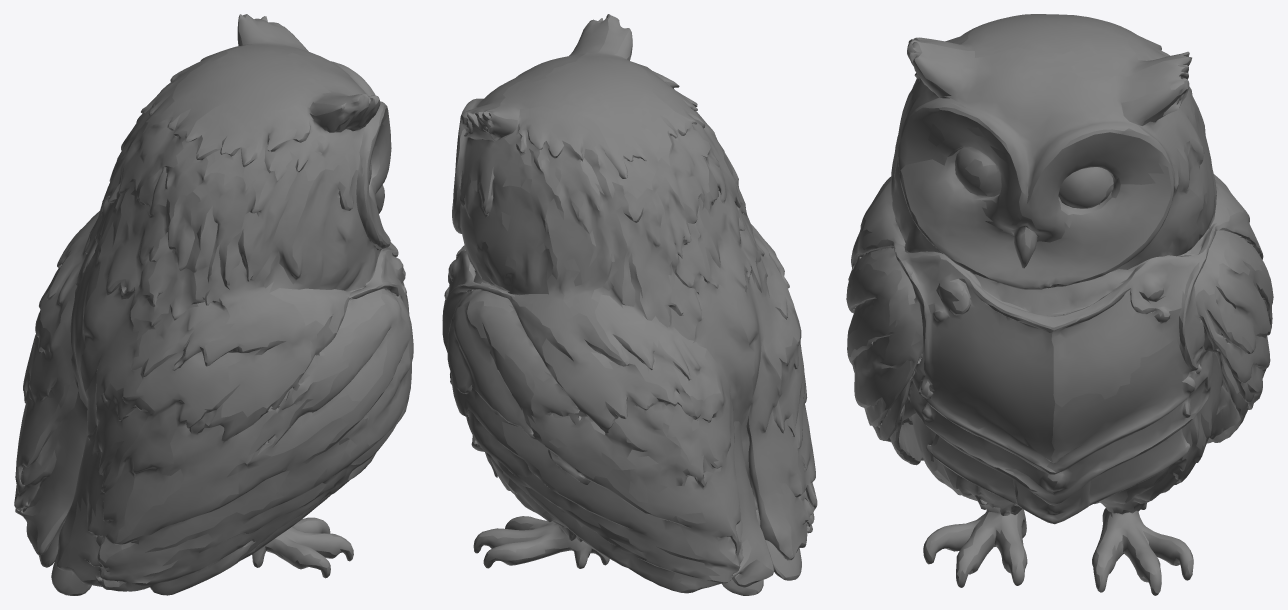
Rendered from completion_owl_1.glb.
The picture shows the model from 3 angles, left to right: view 1: azimuth 30°, elevation 25°; view 2: azimuth 150°, elevation 25°; view 3: azimuth 270°, elevation 25°; orthographic projection. The views are drawn at different scales.
Visible parts, largest first — view 1: geometry_0; view 2: geometry_0; view 3: geometry_0.
Part boxes in pixels (<box>): geometry_0: <box>14,14,413,595</box>; geometry_0: <box>442,14,817,595</box>; geometry_0: <box>846,14,1273,595</box>.
Bounding box in the file's own units: 0.7363 × 0.992 × 0.7072.
1 material, 1 textured.
